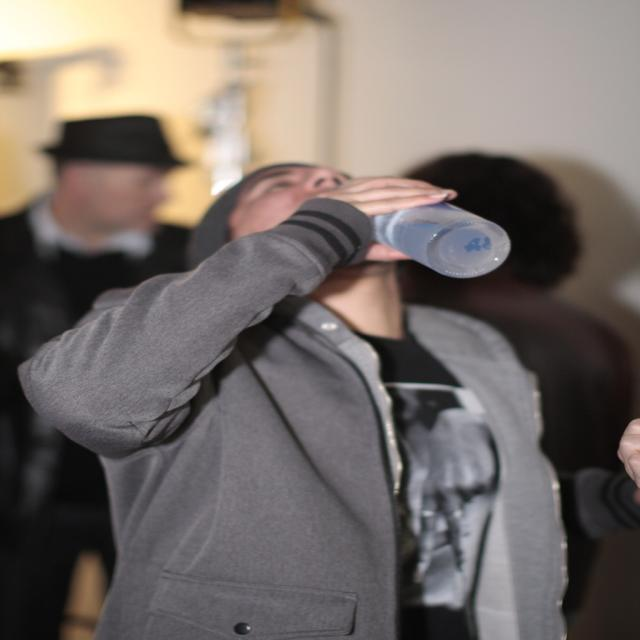Hat: (39, 114, 191, 168)
